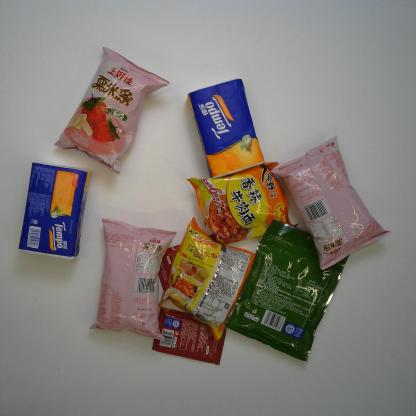Dried Fruit: (224, 218, 350, 365)
Instant Noodles: (158, 215, 256, 342), (186, 161, 299, 246)
Puffed Food: (270, 135, 392, 271), (52, 46, 170, 176), (88, 217, 178, 341)
Seasoner: (151, 306, 228, 366), (158, 234, 221, 291)
Tissue: (186, 77, 266, 181), (18, 160, 93, 261)
